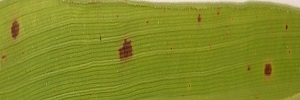RiceBrownSpot: (241, 60, 281, 85), (112, 33, 142, 65), (5, 16, 30, 46)
